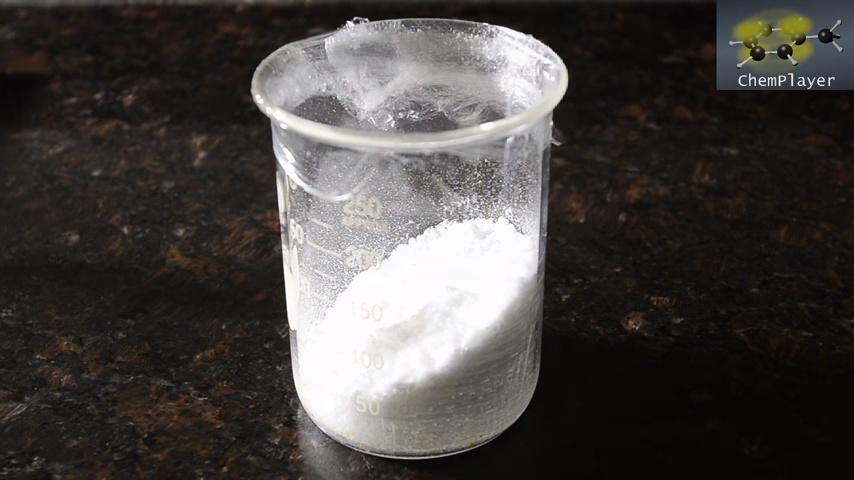Beaker: (246, 16, 626, 450)
